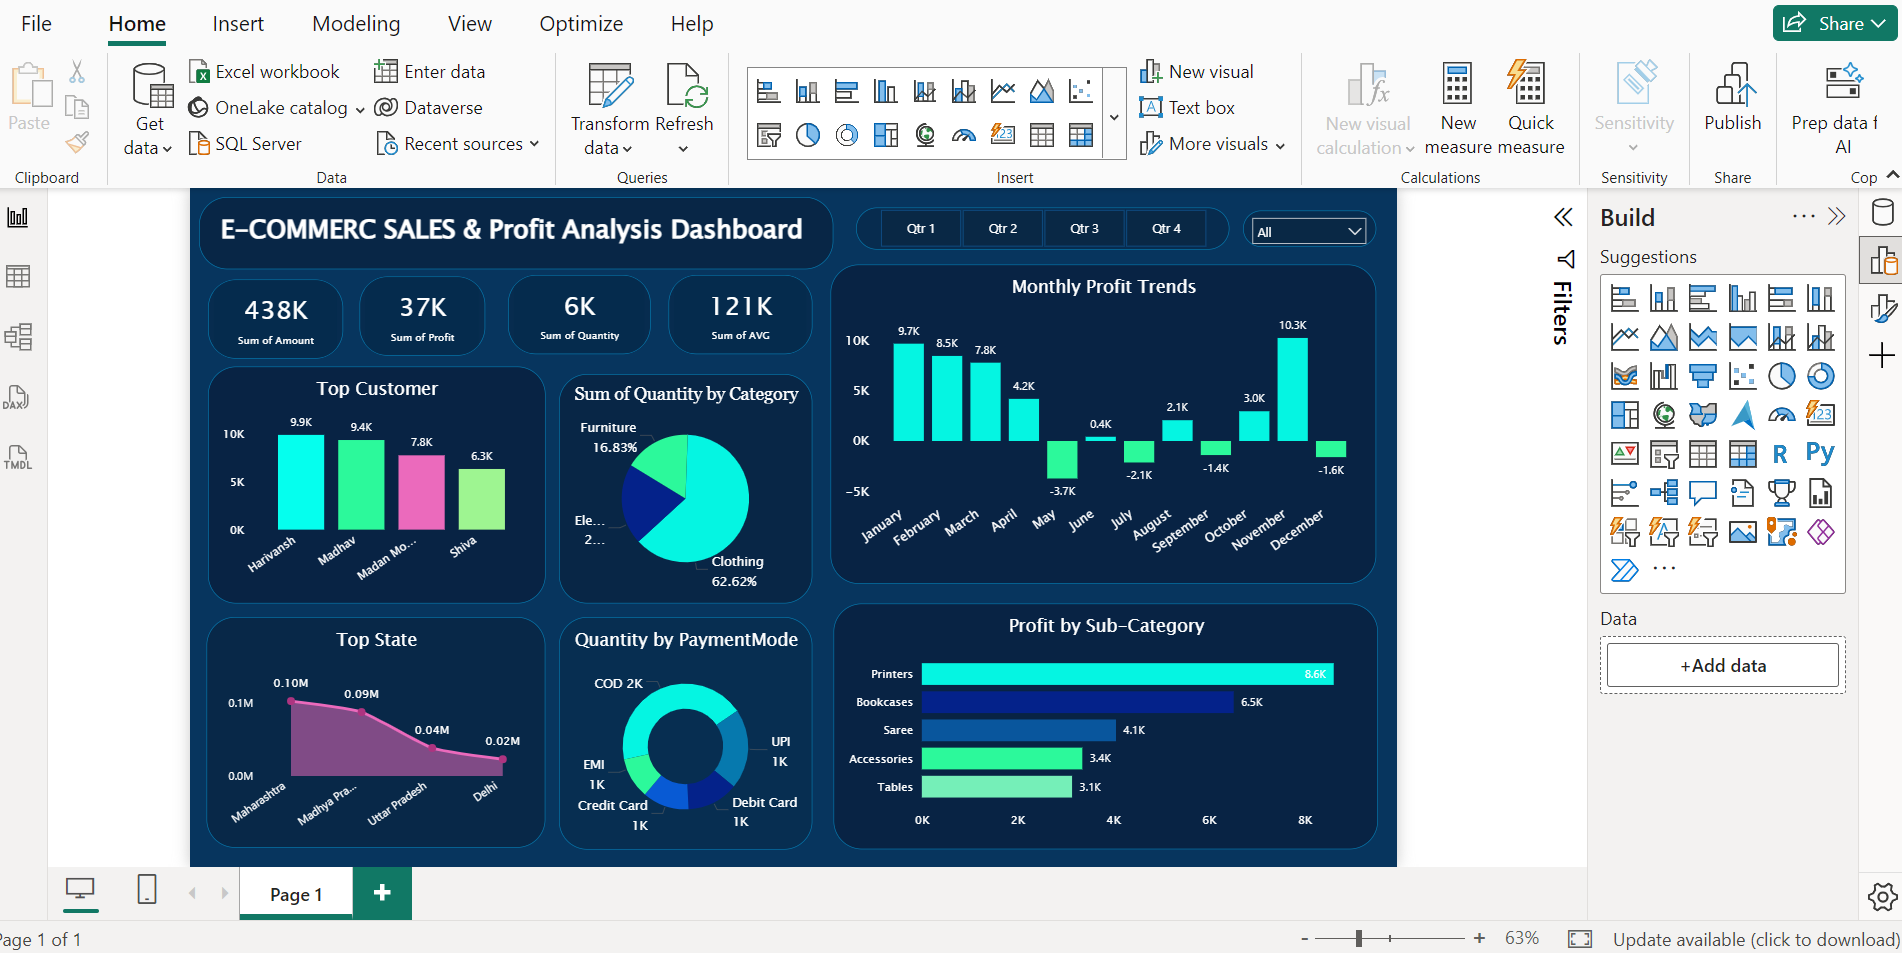

What the dashboard file says about the page in this screenshot:
{"tool":"powerbi","page":{"name":"Page 1","canvas":[1280,720],"ordinal":0},"visuals":[{"type":"textbox","box":[9.5,9.5,672.8,76.3],"z":0},{"type":"columnChart","title":"Monthly Profit Trends","fields":{"Category":["Orders.Order Date.Variation.Date Hierarchy.Month"],"Y":["Sum(Details.Profit)"]},"box":[679.2,81.1,579,338.8],"z":1000},{"type":"clusteredBarChart","title":"Profit by Sub-Category","fields":{"Category":["Details.Sub-Category"],"Y":["Sum(Details.Profit)"]},"box":[682.4,440.6,577.4,260.9],"z":2000},{"type":"donutChart","fields":{"Category":["Details.Category"],"Y":["Sum(Details.Quantity)"]},"box":[391.3,197.2,268.8,243.4],"z":3000},{"type":"donutChart","title":"Quantity by PaymentMode","fields":{"Category":["Details.PaymentMode"],"Y":["Sum(Details.Quantity)"]},"box":[391.3,454.9,268.8,246.5],"z":4000},{"type":"cardVisual","fields":{"Data":["Sum(Details.Amount)"]},"box":[19.1,97,143.2,84.3],"z":5000},{"type":"cardVisual","fields":{"Data":["Sum(Details.Profit)"]},"box":[179.7,93.8,133.6,84.3],"z":6000},{"type":"cardVisual","fields":{"Data":["Sum(Details.Quantity)"]},"box":[337.2,92.3,151.1,84.3],"z":7000},{"type":"cardVisual","fields":{"Data":["Sum(Details.AVG)"]},"box":[507.4,92.3,152.7,84.3],"z":8000},{"type":"areaChart","title":"Top State","fields":{"Category":["Orders.State"],"Y":["Sum(Details.Amount)"]},"box":[17.5,454.9,359.5,245],"z":9000},{"type":"columnChart","title":"Top Customer","fields":{"Category":["Orders.CustomerName"],"Y":["Sum(Details.Amount)"]},"box":[19.1,189.3,357.9,251.3],"z":10000},{"type":"slicer","fields":{"Values":["Orders.Order Date.Variation.Date Hierarchy.Quarter"]},"box":[706.2,20.7,396.1,44.5],"z":11000},{"type":"slicer","fields":{"Values":["Orders.State"]},"box":[1116.8,24.3,141.6,38.4],"z":12000}]}

Visuals, with their boxes on the page's 1280x720 design canvas (x1, y1, x2, y2). These are canvas units, not pixel positions in the 1902x953 screenshot, which may show the page scaled, cropped or inside an application window:
textbox: [left=10, top=10, right=682, bottom=86]
"Monthly Profit Trends" columnChart: [left=679, top=81, right=1258, bottom=420]
"Profit by Sub-Category" clusteredBarChart: [left=682, top=441, right=1260, bottom=702]
donutChart - Details.Category x Sum(Details.Quantity): [left=391, top=197, right=660, bottom=441]
"Quantity by PaymentMode" donutChart: [left=391, top=455, right=660, bottom=701]
cardVisual - Sum(Details.Amount): [left=19, top=97, right=162, bottom=181]
cardVisual - Sum(Details.Profit): [left=180, top=94, right=313, bottom=178]
cardVisual - Sum(Details.Quantity): [left=337, top=92, right=488, bottom=177]
cardVisual - Sum(Details.AVG): [left=507, top=92, right=660, bottom=177]
"Top State" areaChart: [left=18, top=455, right=377, bottom=700]
"Top Customer" columnChart: [left=19, top=189, right=377, bottom=441]
slicer - Orders.Order Date.Variation.Date Hierarchy.Quarter: [left=706, top=21, right=1102, bottom=65]
slicer - Orders.State: [left=1117, top=24, right=1258, bottom=63]
